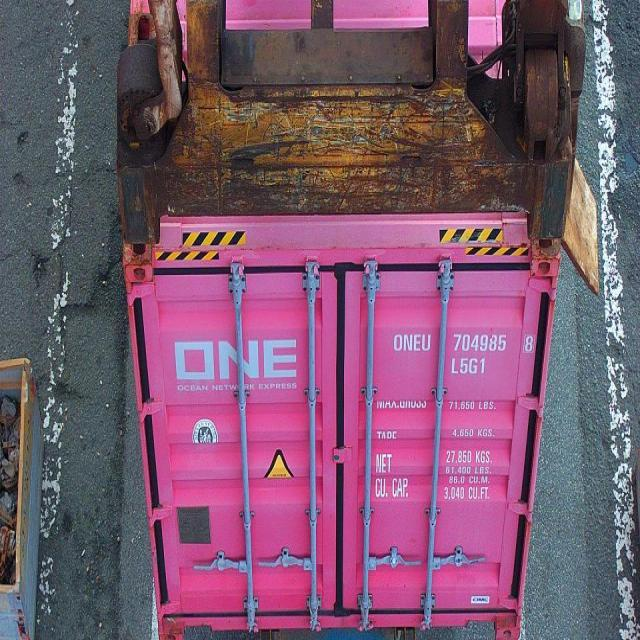ISO: (449, 358, 487, 376)
container_number: (391, 332, 526, 353)
